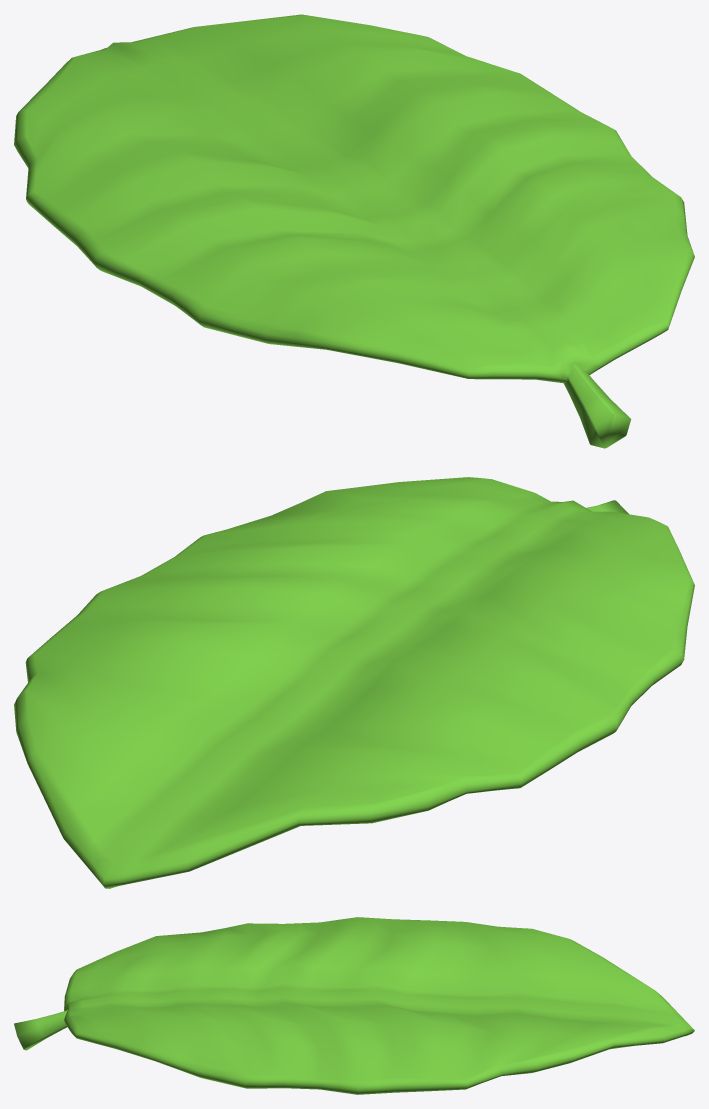
Rendered from Leaf 1.fbx.
The picture shows the model from 3 angles, top to bottom: view 1: azimuth 30°, elevation 25°; view 2: azimuth 150°, elevation 25°; view 3: azimuth 270°, elevation 25°; orthographic projection. The views are drawn at different scales.
Visible parts, largest first — view 1: Cube; view 2: Cube; view 3: Cube.
Part boxes in pixels (box(x1,y1,x2,y2)): Cube: box(14, 14, 694, 448); Cube: box(14, 477, 694, 888); Cube: box(14, 917, 694, 1094).
Size of the model in its own units: 452 by 86.55 by 764.
